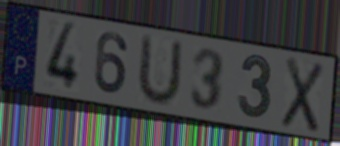3: (236, 52, 274, 123), (188, 47, 227, 113)
4: (42, 19, 82, 95)
6: (94, 30, 129, 97)
U: (134, 31, 185, 109)
X: (279, 54, 327, 136)
